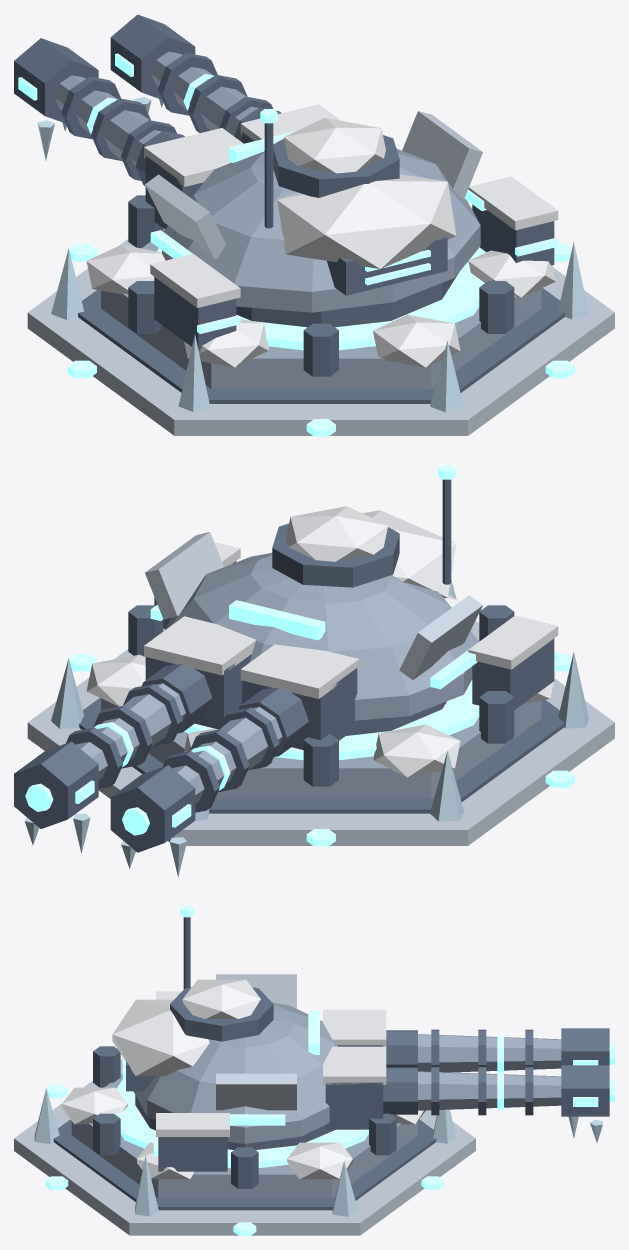
Rendered from turret_lvl4.fbx.
3 views of the same model, one above another, from view 1: azimuth 30°, elevation 25°; view 2: azimuth 150°, elevation 25°; view 3: azimuth 270°, elevation 25° (orthographic). The views are drawn at different scales.
Parts seen in each view (by area): view 1: BaseTier_56, Dome_05, SnowBlanket_63, Base_01, BaseSkirt_02, SnowCupola_76, Neon_BaseRing_03, MuzzleBrake_29, MuzzleBrake_15, Pivot_04, ArmorPlate_42, SnowMound_68 (+33 smaller); view 2: Dome_05, BaseTier_56, Base_01, BaseSkirt_02, MuzzleBrake_15, MuzzleBrake_29, SnowCupola_76, SnowCap_08, SnowCap_22, Cupola_55, ArmorPlate_42, SnowMound_66 (+31 smaller); view 3: BaseTier_56, Dome_05, Base_01, BaseSkirt_02, SnowBlanket_63, BarrelTube_24, BarrelTube_10, ArmorPlate_42, Neon_BaseRing_03, SnowCupola_76, BarrelMount_21, Cupola_55 (+25 smaller).
Part boxes in pixels (bbox=[...]): BaseTier_56: bbox=[27, 207, 614, 435]; Dome_05: bbox=[162, 149, 480, 312]; SnowBlanket_63: bbox=[277, 174, 456, 268]; Base_01: bbox=[101, 242, 541, 388]; BaseSkirt_02: bbox=[78, 288, 565, 403]; SnowCupola_76: bbox=[284, 117, 385, 173]; Neon_BaseRing_03: bbox=[157, 247, 486, 350]; MuzzleBrake_29: bbox=[110, 14, 195, 99]; MuzzleBrake_15: bbox=[14, 38, 98, 123]; Pivot_04: bbox=[236, 273, 458, 327]; ArmorPlate_42: bbox=[402, 111, 482, 198]; SnowMound_68: bbox=[373, 314, 460, 367]; Dome_05: bbox=[164, 553, 478, 720]; BaseTier_56: bbox=[27, 620, 614, 845]; Base_01: bbox=[101, 656, 541, 798]; BaseSkirt_02: bbox=[79, 698, 564, 813]; MuzzleBrake_15: bbox=[110, 765, 195, 852]; MuzzleBrake_29: bbox=[14, 741, 98, 828]; SnowCupola_76: bbox=[286, 506, 388, 561]; SnowCap_08: bbox=[240, 644, 359, 698]; SnowCap_22: bbox=[144, 616, 255, 675]; Cupola_55: bbox=[272, 523, 399, 587]; ArmorPlate_42: bbox=[145, 532, 223, 619]; SnowMound_66: bbox=[373, 724, 460, 777]; BaseTier_56: bbox=[14, 1059, 475, 1235]; Dome_05: bbox=[133, 1002, 337, 1143]; Base_01: bbox=[71, 1074, 417, 1198]; BaseSkirt_02: bbox=[53, 1119, 436, 1210]; SnowBlanket_63: bbox=[112, 999, 209, 1076]; BarrelTube_24: bbox=[418, 1071, 561, 1110]; BarrelTube_10: bbox=[418, 1034, 561, 1072]; ArmorPlate_42: bbox=[216, 1073, 296, 1110]; Neon_BaseRing_03: bbox=[115, 1078, 368, 1167]; SnowCupola_76: bbox=[182, 979, 260, 1018]; BarrelMount_21: bbox=[325, 1082, 383, 1129]; Cupola_55: bbox=[170, 987, 273, 1041].
Bounding box in the file's own units: 492 × 249 × 651.
